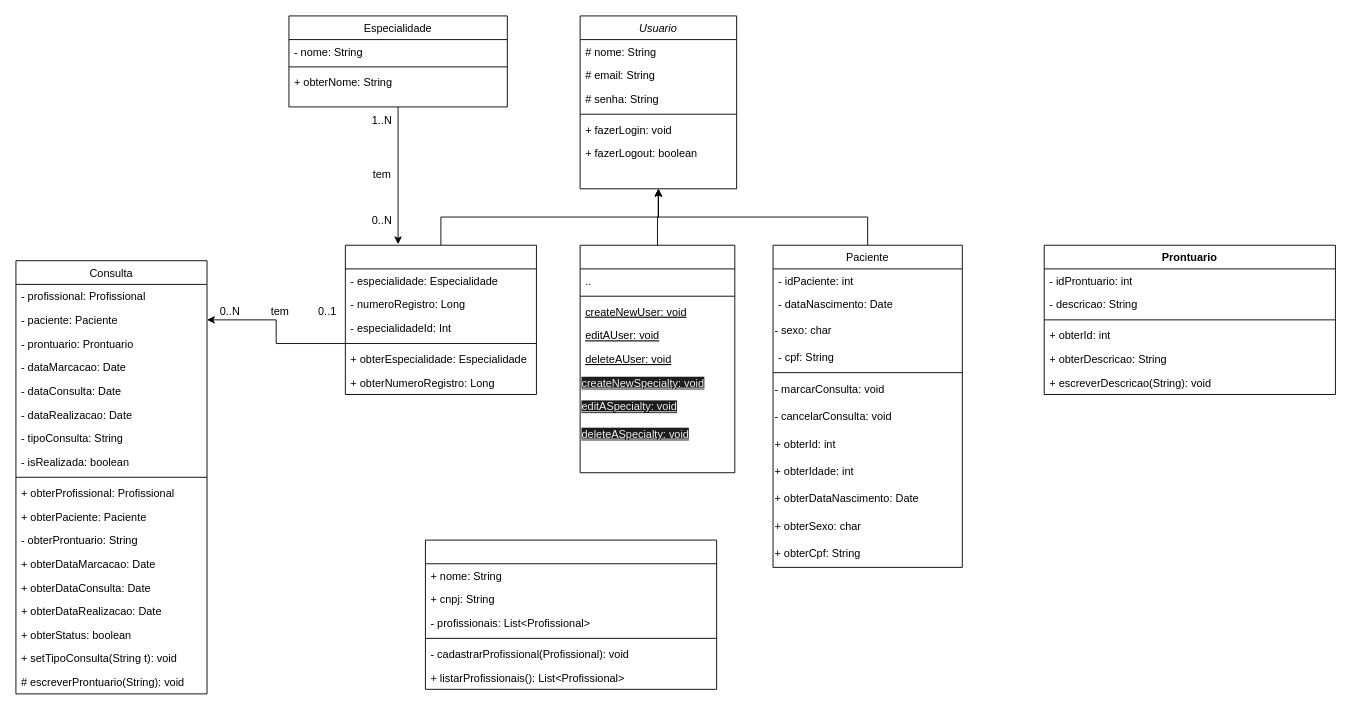
Image size: 1351x713. Some labels were removed from this diagram. Here are the shapes that lost their labels. From the top down, the box of each, then its label:
(344, 244, 536, 394): Profissional
(579, 244, 735, 473): Admin
(425, 539, 717, 689): Clinica
